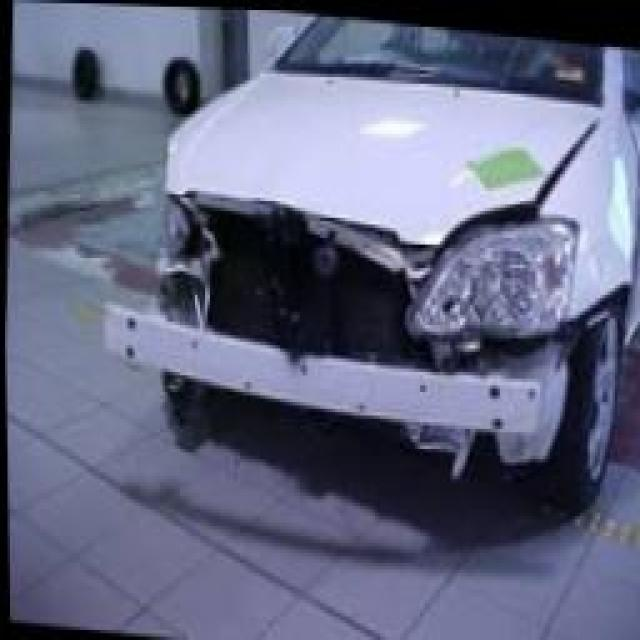Bonnet: (385, 112, 616, 256)
Bumper: (77, 256, 627, 465)
Light: (145, 166, 216, 260)
